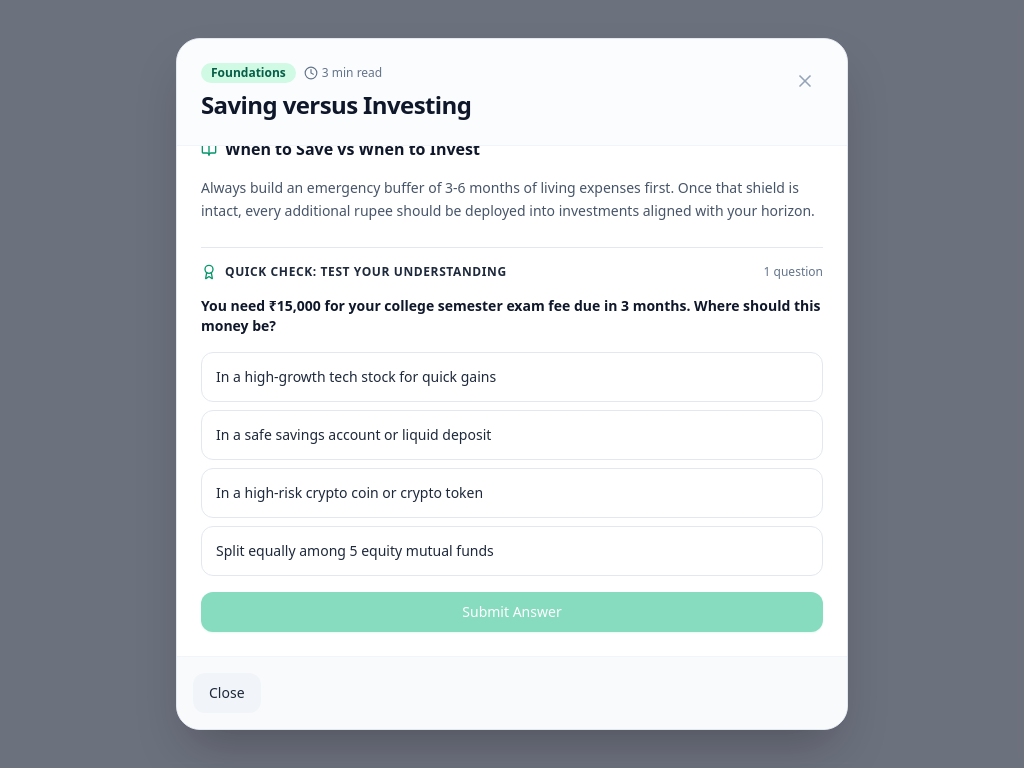
UI Components Integration › renders LessonModal with Indian Rupee examples and handles interactive quiz submission
(page scrolled)
Check: the heading "Saving versus Investing" is shown, box [201,89,471,121]
// Find correct quiz option and submit
Click the button "In a safe savings account or liquid deposit".
click(354, 434)  # box [201,410,823,460]
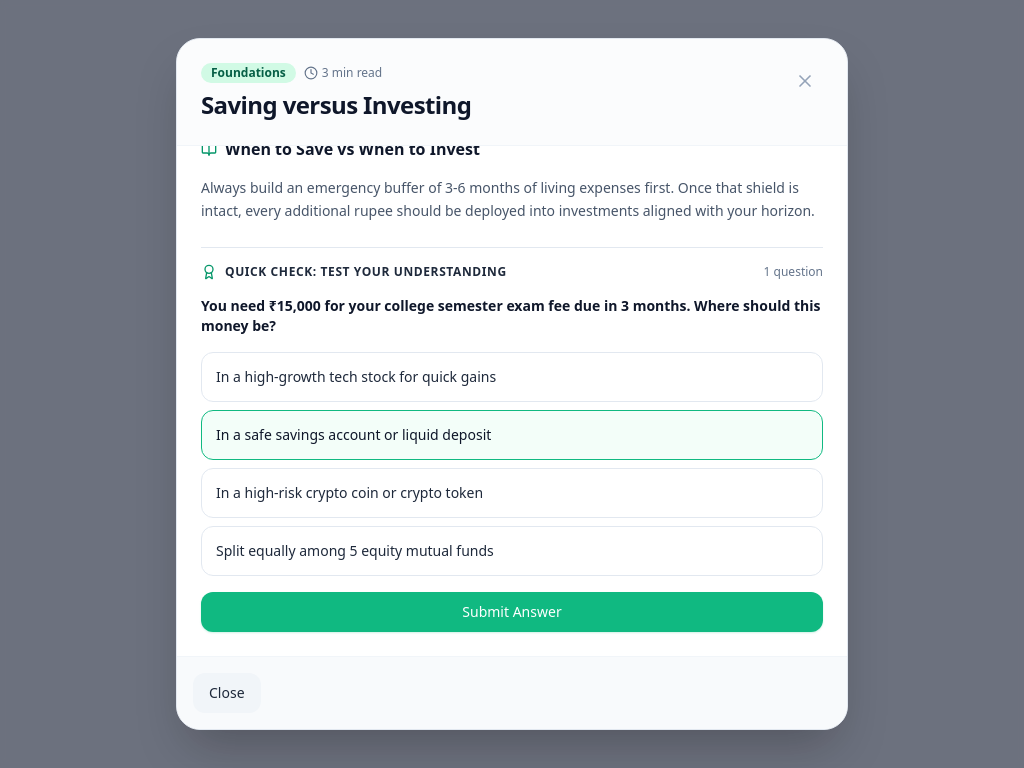
Click the button "Submit Answer".
click(512, 612)  # box [201,592,823,632]
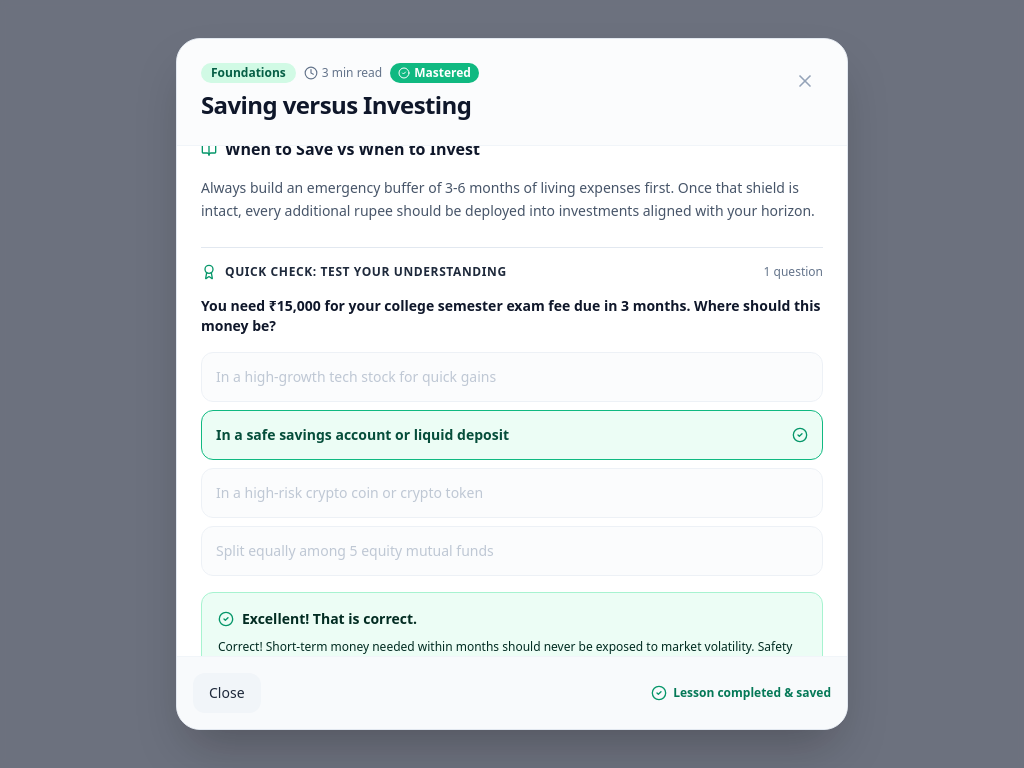
Check: the text "Excellent! That is correct." is shown, box [242,609,417,629]
